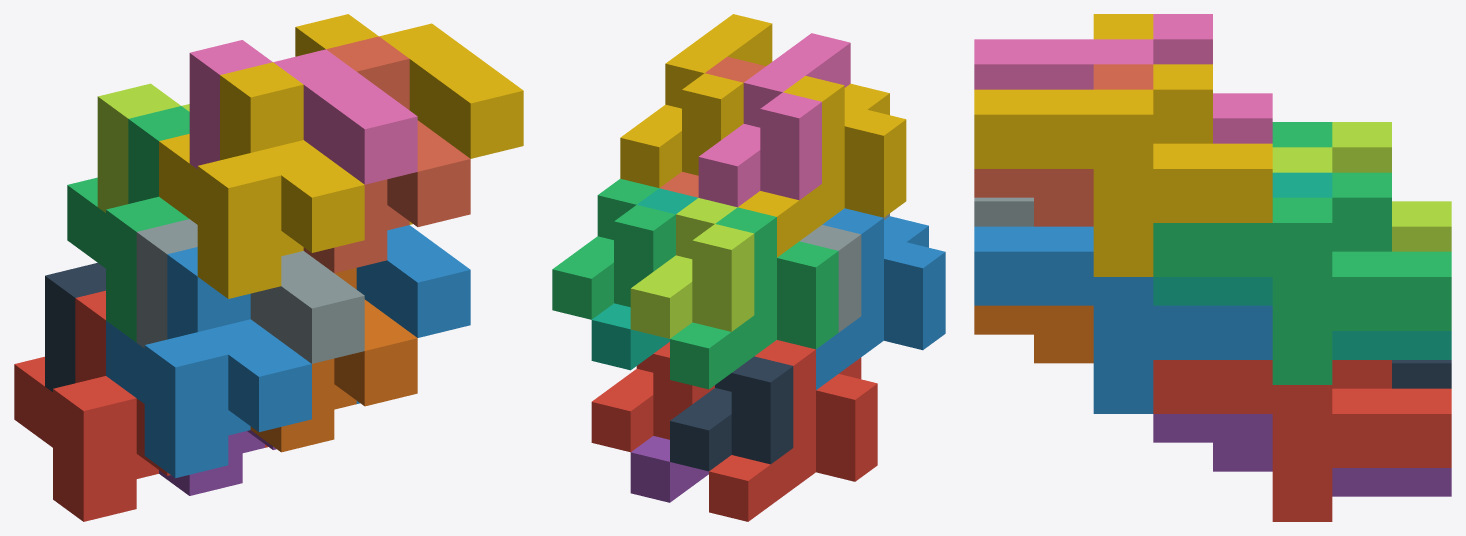
The model's file is tiling.obj.
3 views of the same model, side by side, from view 1: azimuth 30°, elevation 25°; view 2: azimuth 150°, elevation 25°; view 3: azimuth 270°, elevation 25° (orthographic). The views are drawn at different scales.
Parts seen in each view (by area): view 1: copy_1_domain_4, copy_1_domain_2, copy_1_domain_1, copy_2_domain_4, copy_2_domain_8, copy_2_domain_2, copy_1_domain_8, copy_1_domain_3, copy_1_domain_6, copy_2_domain_6, copy_2_domain_3, copy_2_domain_1 (+1 smaller); view 2: copy_2_domain_4, copy_1_domain_1, copy_1_domain_3, copy_1_domain_4, copy_2_domain_8, copy_1_domain_2, copy_2_domain_3, copy_2_domain_7, copy_2_domain_1, copy_2_domain_5, copy_1_domain_7, copy_1_domain_5 (+2 smaller); view 3: copy_2_domain_8, copy_2_domain_7, copy_2_domain_5, copy_2_domain_6, copy_2_domain_4, copy_1_domain_5, copy_1_domain_7, copy_2_domain_3, copy_1_domain_8, copy_1_domain_6, copy_2_domain_2, copy_2_domain_1 (+2 smaller).
Boxes of the visible parts, box(x1,y1,x2,y2) form: copy_1_domain_4: box(159, 62, 364, 298); copy_1_domain_2: box(106, 247, 311, 478); copy_1_domain_1: box(14, 290, 170, 521); copy_2_domain_4: box(189, 40, 417, 184); copy_2_domain_8: box(295, 14, 523, 224); copy_2_domain_2: box(136, 219, 364, 363); copy_1_domain_8: box(303, 36, 470, 273); copy_1_domain_3: box(67, 106, 189, 342); copy_1_domain_6: box(250, 268, 417, 452); copy_2_domain_6: box(356, 225, 470, 403); copy_2_domain_3: box(97, 83, 189, 212); copy_2_domain_1: box(45, 262, 105, 391); copy_2_domain_4: box(698, 33, 850, 207); copy_1_domain_1: box(709, 340, 877, 521); copy_1_domain_3: box(670, 207, 838, 389); copy_1_domain_4: box(738, 76, 906, 257); copy_2_domain_8: box(620, 14, 772, 188); copy_1_domain_2: box(816, 208, 945, 389); copy_2_domain_3: box(630, 198, 754, 338); copy_2_domain_7: box(552, 178, 675, 319); copy_2_domain_1: box(670, 356, 793, 471); copy_2_domain_5: box(591, 342, 714, 452); copy_1_domain_7: box(591, 188, 698, 370); copy_1_domain_5: box(630, 436, 708, 502); copy_2_domain_8: box(974, 64, 1272, 276); copy_2_domain_7: box(1153, 172, 1451, 384); copy_2_domain_5: box(1153, 360, 1451, 521); copy_2_domain_6: box(974, 226, 1272, 413); copy_2_domain_4: box(974, 14, 1272, 143); copy_1_domain_5: box(1153, 414, 1451, 496); copy_1_domain_7: box(1153, 172, 1451, 359); copy_2_domain_3: box(1272, 122, 1451, 251); copy_1_domain_8: box(974, 64, 1153, 226); copy_1_domain_6: box(974, 305, 1093, 363); copy_2_domain_2: box(974, 197, 1033, 226); copy_2_domain_1: box(1392, 360, 1451, 388).
Size of the model in its own units: 6 by 8 by 8.
